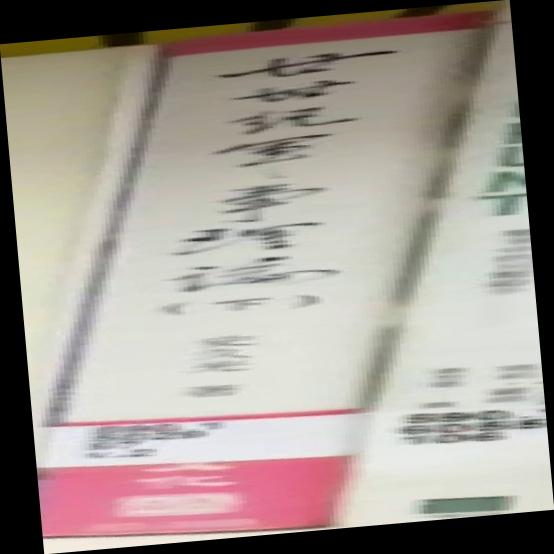book: (1, 1, 551, 554)
